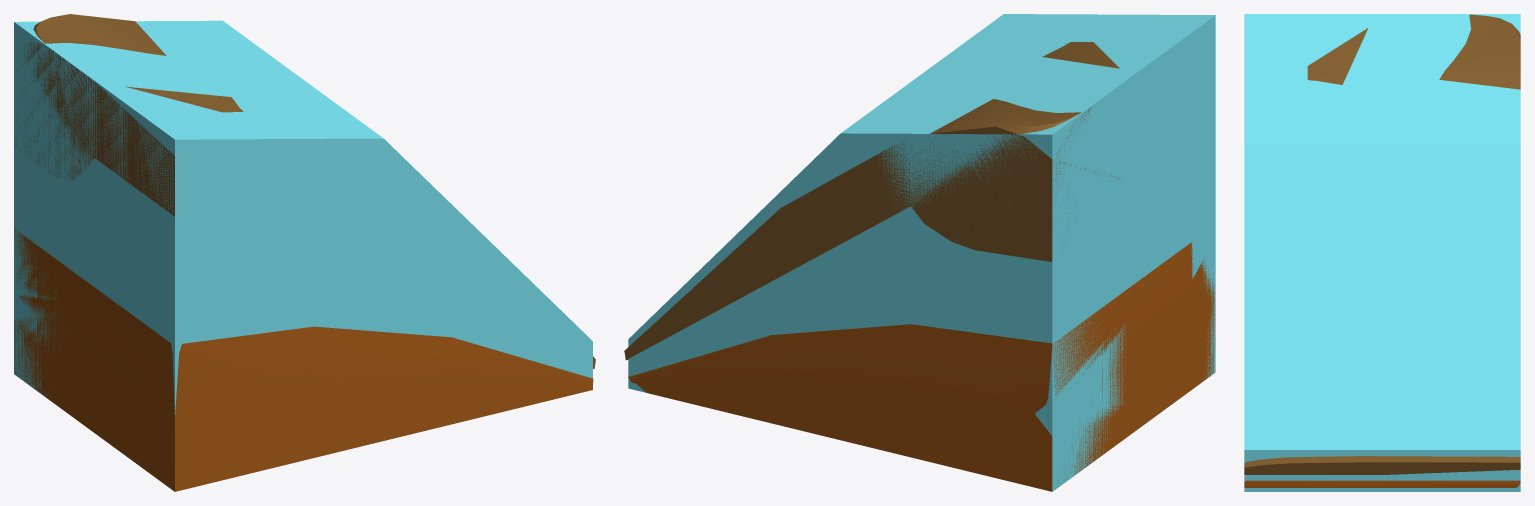
File: PBOX23_ Slope_MUD_01.FBX
The picture shows the model from 3 angles, left to right: view 1: azimuth 30°, elevation 25°; view 2: azimuth 150°, elevation 25°; view 3: azimuth 270°, elevation 25°; orthographic projection. The views are drawn at different scales.
Visible parts, largest first — view 1: PBOX23_ Slope_MUD_01, PBOX23_SUB_TAB_MUD_004, PBOX23_SUB_Mud_003; view 2: PBOX23_ Slope_MUD_01, PBOX23_SUB_TAB_MUD_004, PBOX23_SUB_Mud_003; view 3: PBOX23_ Slope_MUD_01, PBOX23_SUB_Mud_003, PBOX23_SUB_TAB_MUD_004.
Part boxes in pixels (x1,y1,x2,y2): PBOX23_ Slope_MUD_01: (14,20,592,414); PBOX23_SUB_TAB_MUD_004: (14,229,593,491); PBOX23_SUB_Mud_003: (14,14,595,368); PBOX23_ Slope_MUD_01: (628,14,1215,491); PBOX23_SUB_TAB_MUD_004: (628,242,1215,491); PBOX23_SUB_Mud_003: (624,42,1119,360); PBOX23_ Slope_MUD_01: (1244,14,1520,491); PBOX23_SUB_Mud_003: (1244,14,1520,474); PBOX23_SUB_TAB_MUD_004: (1244,480,1520,487).
Size of the model in its own units: 18.18 by 14.5 by 12.
